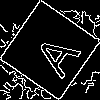A: (25, 25, 82, 80)
